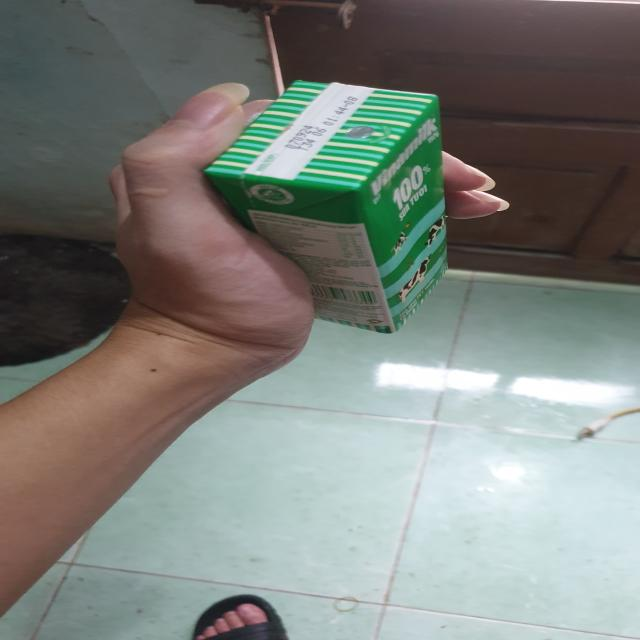Vina: (202, 79, 451, 337)
